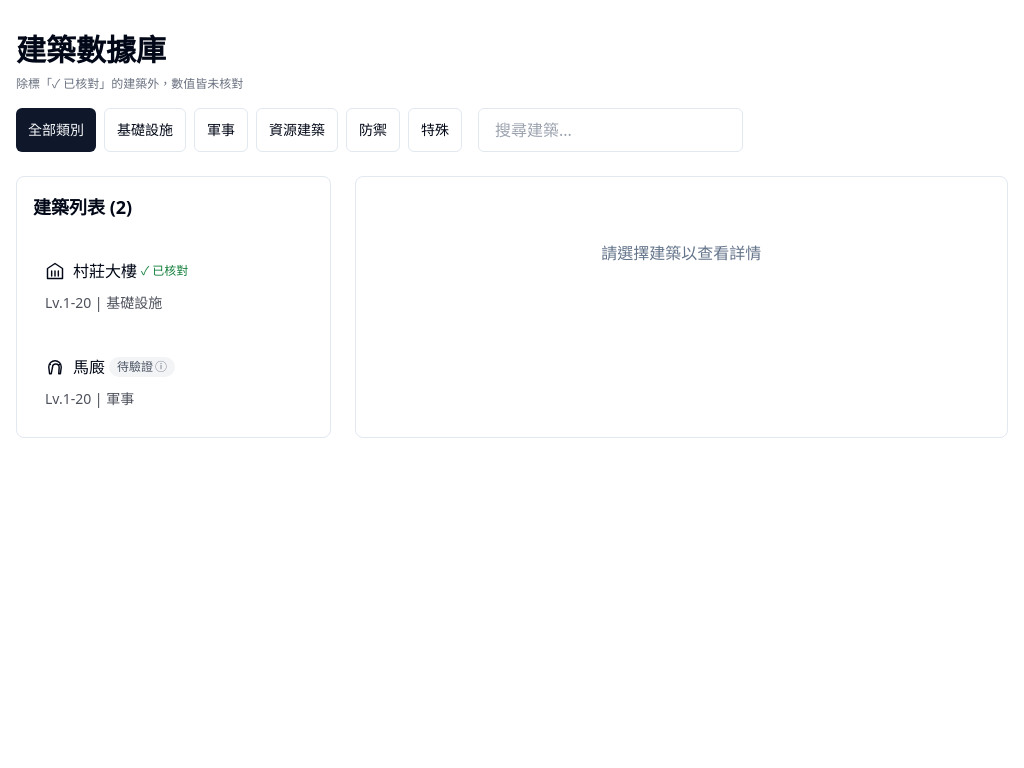
Scenario: BuildingsPage ts11 verification marks › tap ✓: two lines, the source named per building (stable: ts11 in-game help + official knowledge base)
Click the button with test id "verified-mark".
click(165, 271)  # box [141,249,188,293]
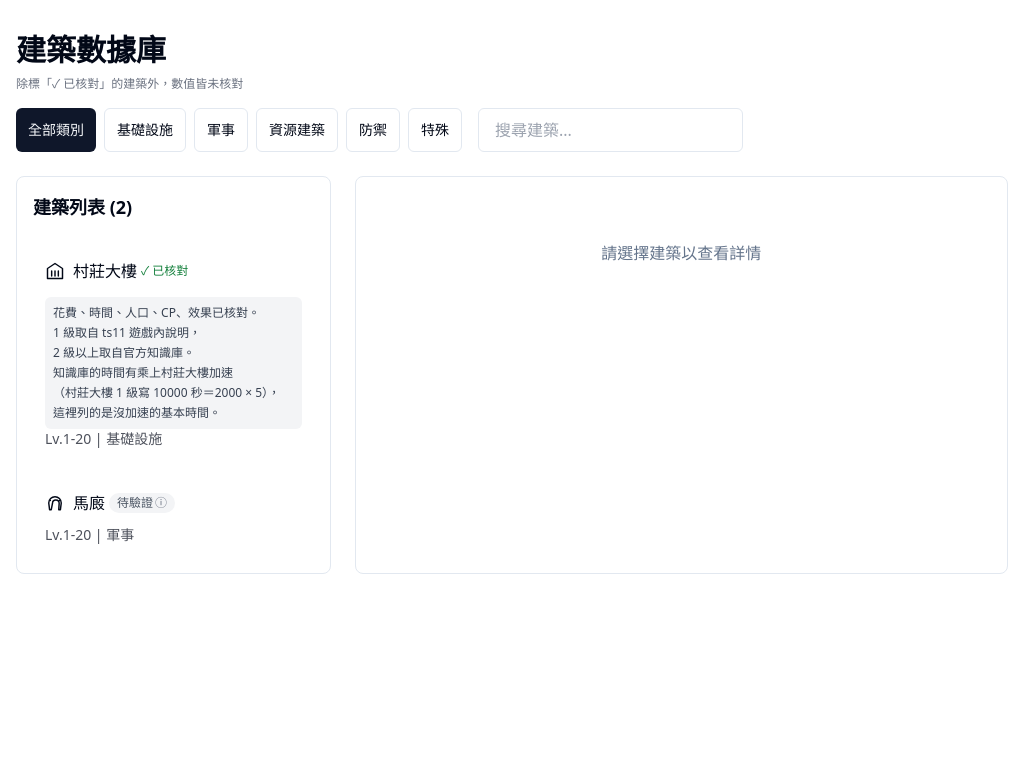
Expected: the element with test id "pending-note-source" does not show "不同", [53,323,294,423]
Expected: the element with test id "pending-note-what" reads "花費、 時間、 人口、 CP、 效果已核對。", [53,303,294,323]
Click the button with test id "verified-mark".
click(165, 271)  # box [141,249,188,293]
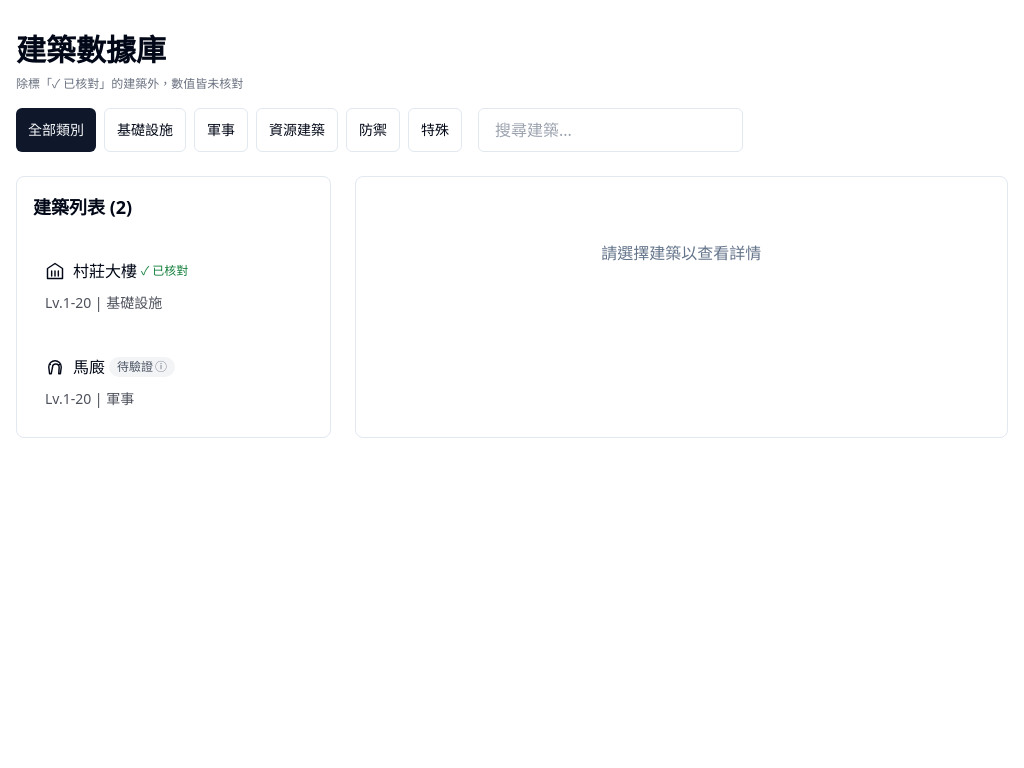
Expected: the element with test id "pending-note-panel" is gone
